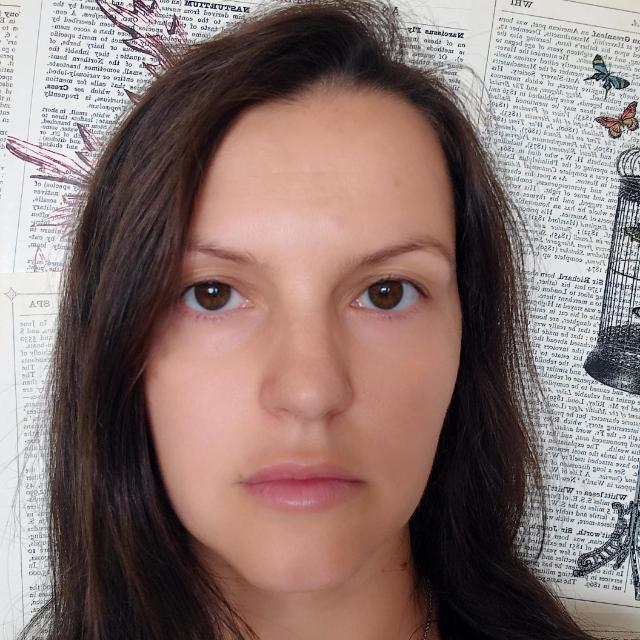Natural: (93, 106, 491, 610)
